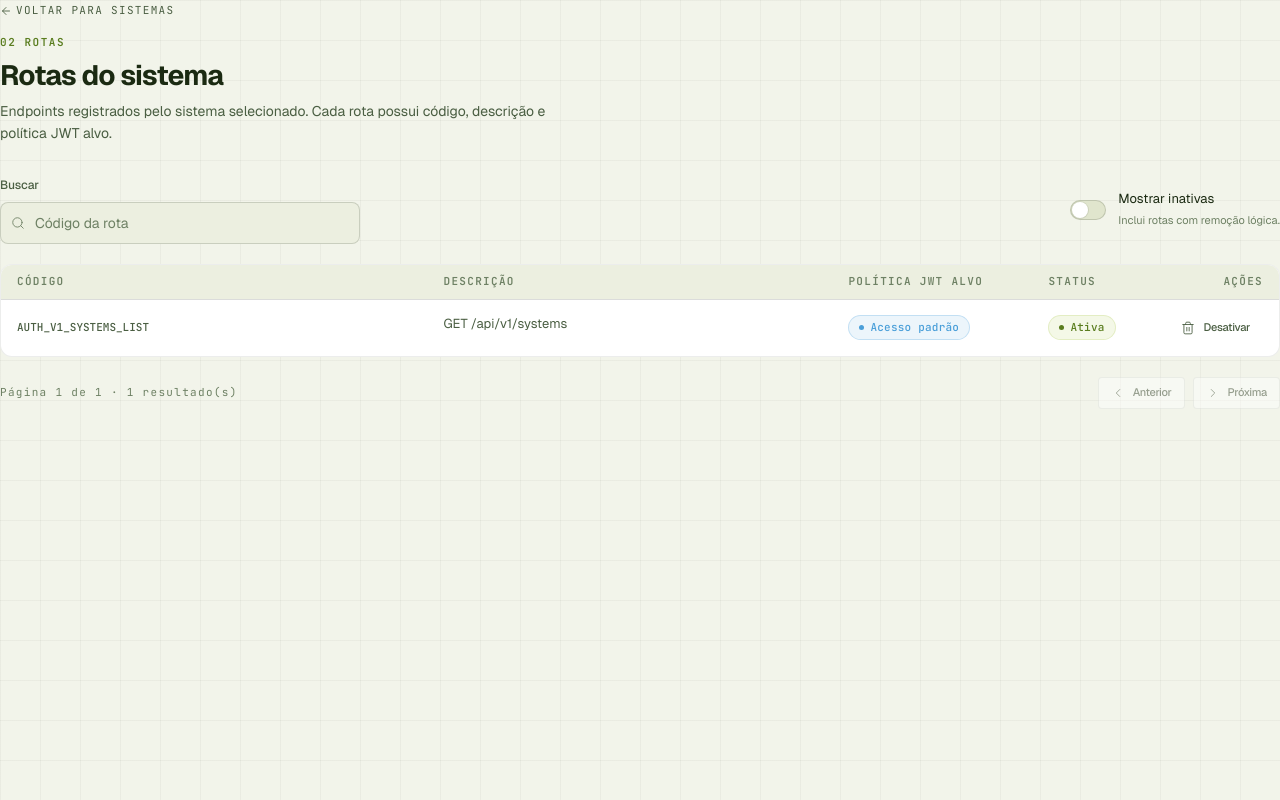
RoutesPage — desativar (Issue #65) › abertura do diálogo de confirmação › fechar via botão Cancelar não dispara DELETE
This screenshot has width=1280, height=800.
Click the button "Desativar". click: (1216, 328)
box: [1168,312,1263,344]
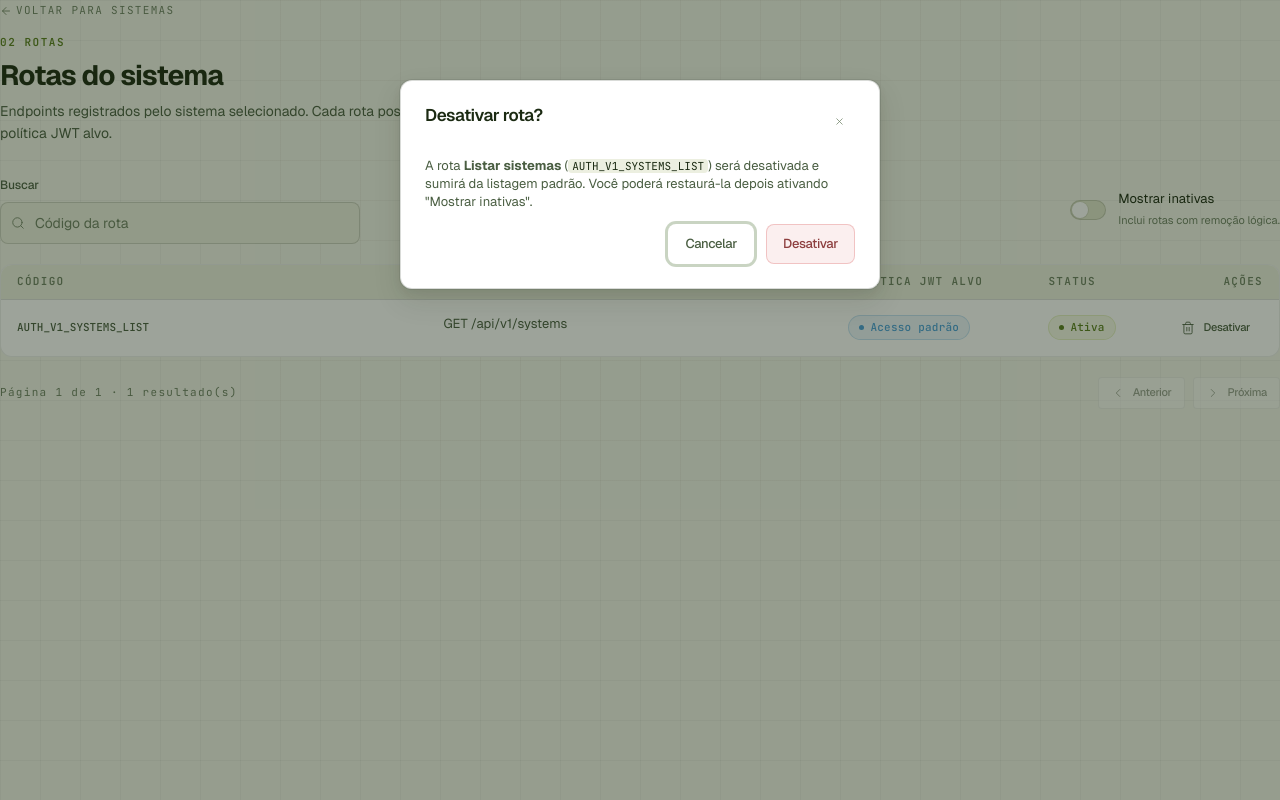
Now the dialog is shown, box [400,80,880,289]
Click the button with test id "delete-route-cancel". click: (711, 244)
box: [668,224,754,264]
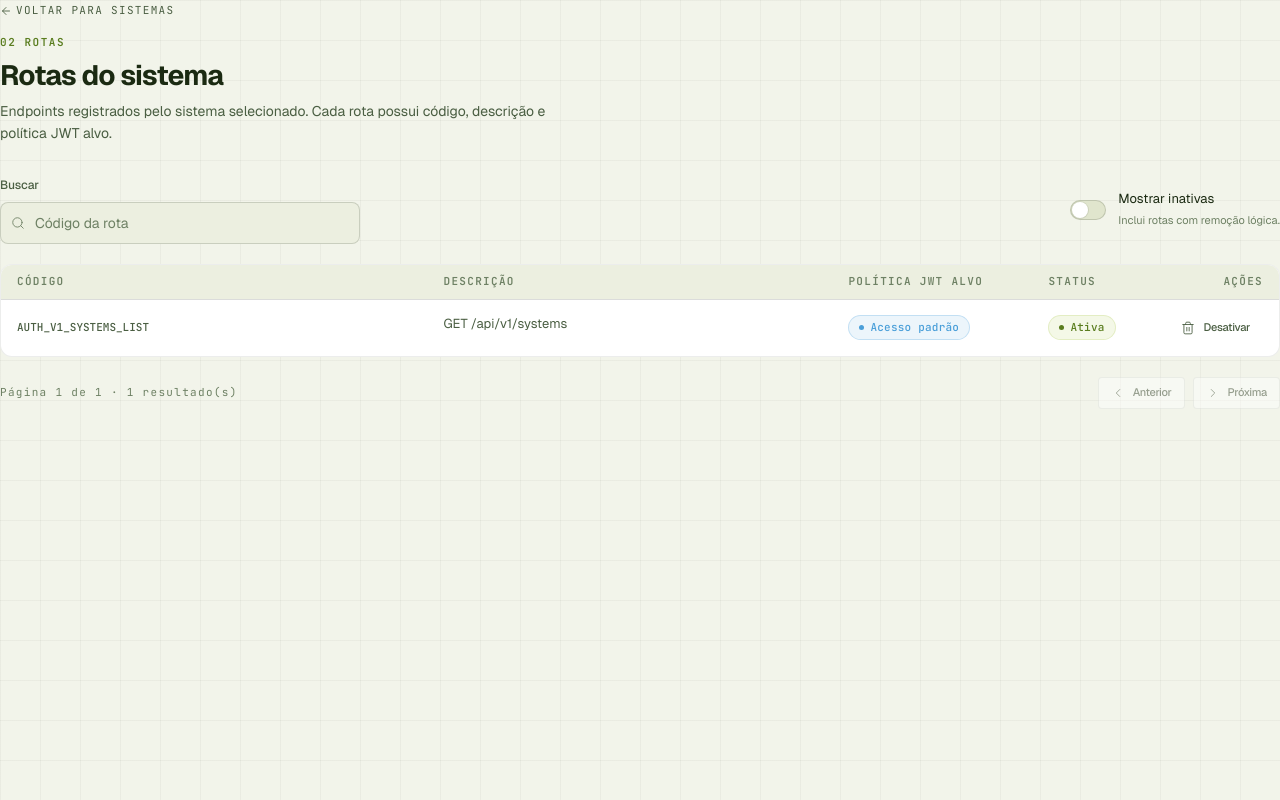
Now the dialog is gone
